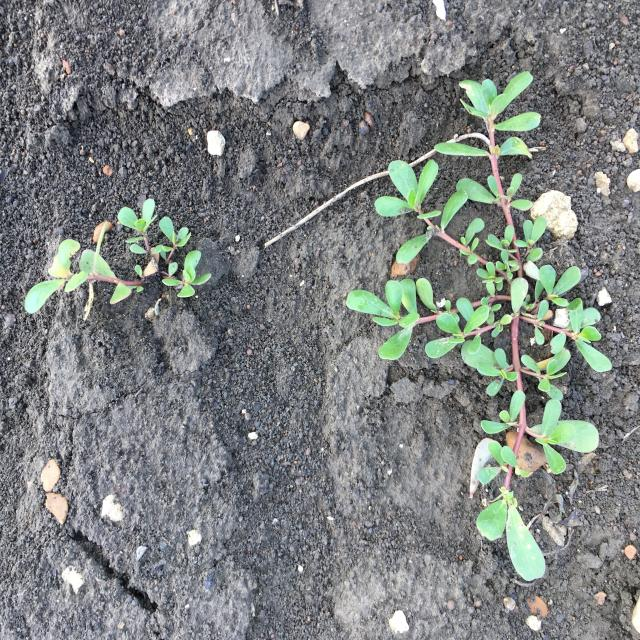Purslane: (346, 71, 613, 581), (24, 199, 212, 314)
